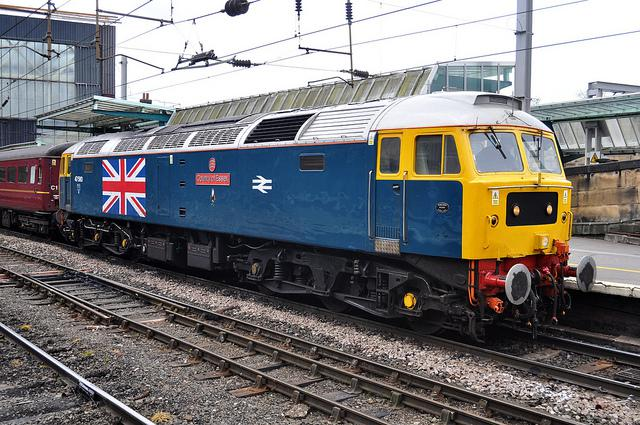Train: (0, 89, 599, 342)
